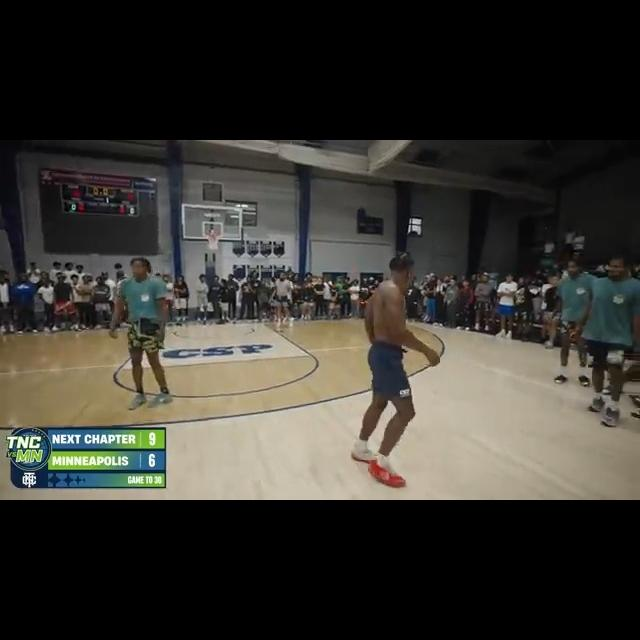hoop: (205, 230, 221, 251)
